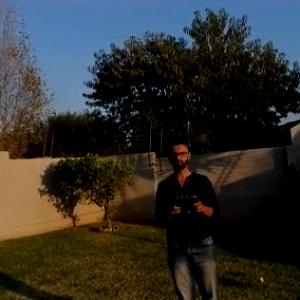follow: (151, 125, 225, 299)
